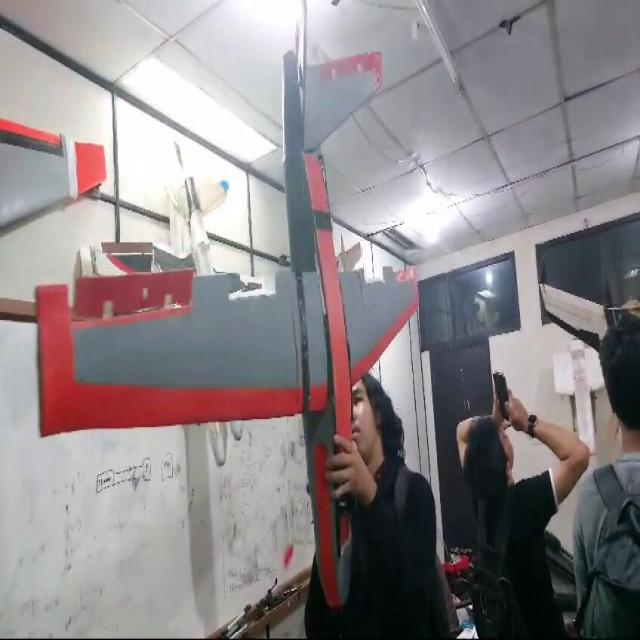plane: (34, 2, 420, 610)
